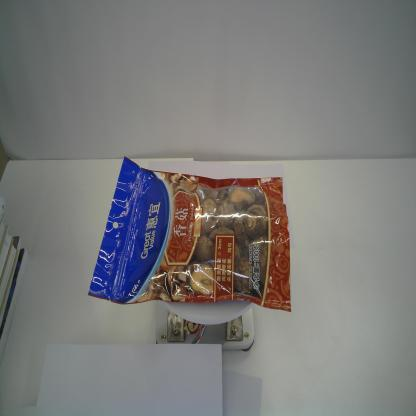Dried Food: (87, 154, 293, 315)
